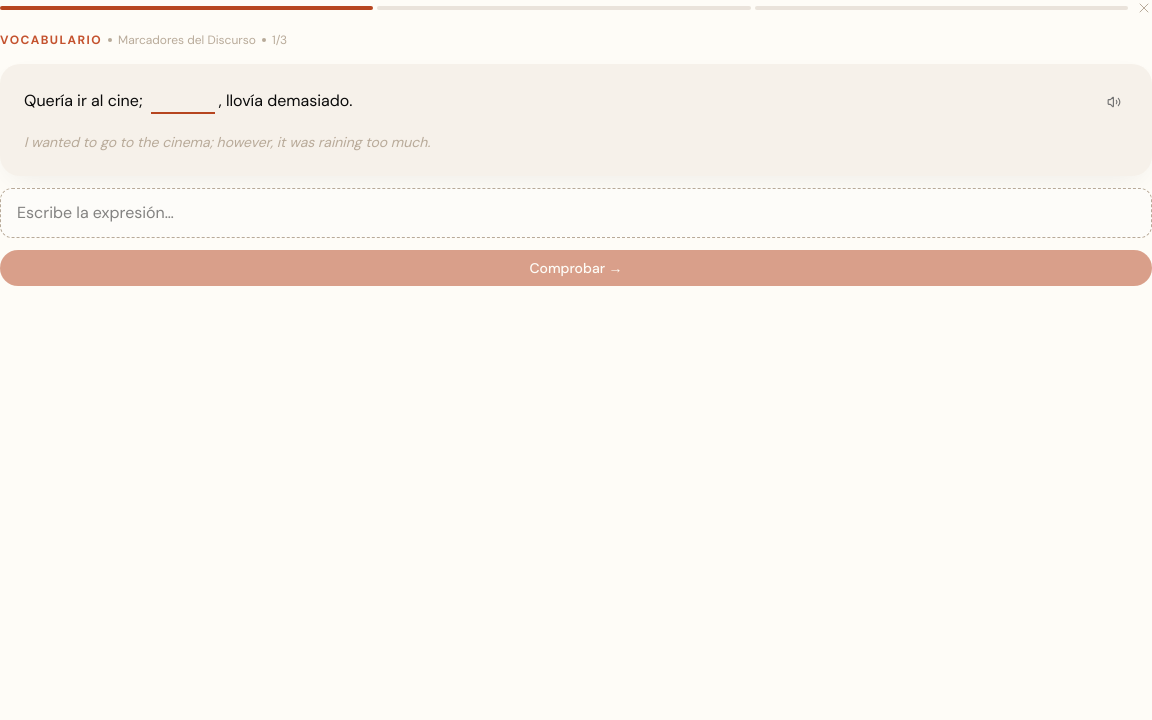
VocabSession › dismisses exit dialog when Seguir is clicked
The width and height of the screenshot is (1152, 720).
Click the button named "Salir de la sesión" at x=1144, y=8, box top-left (1136, 0), bottom-right (1151, 16)
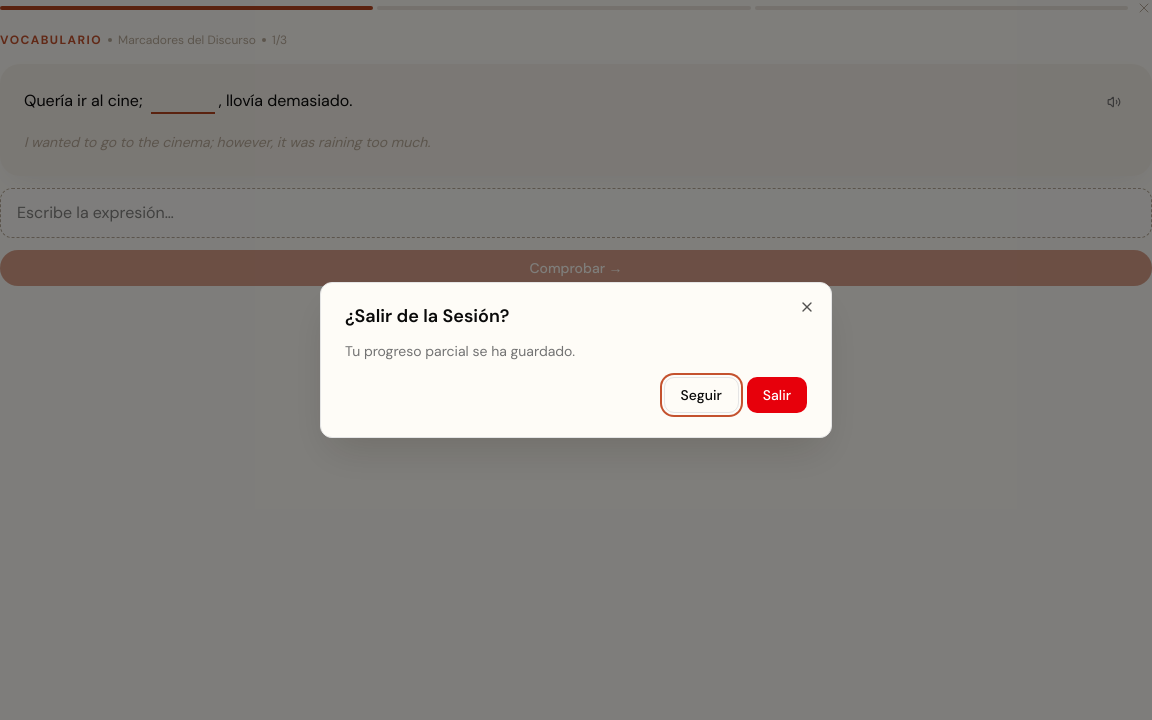
Click the button "Seguir" at x=701, y=395, box top-left (664, 377), bottom-right (739, 413)
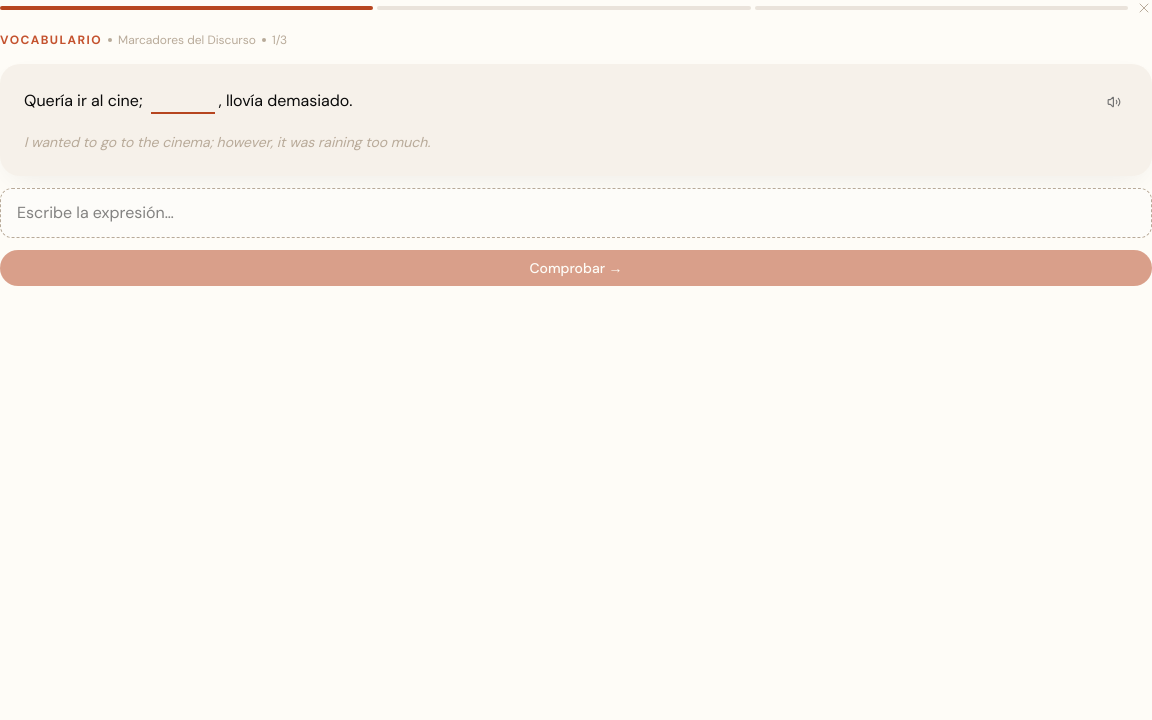
Expected: the field with placeholder "Escribe la expresión…" is shown, top-left (17, 201), bottom-right (1135, 225)
Now the heading "¿Salir de la Sesión?" is gone
